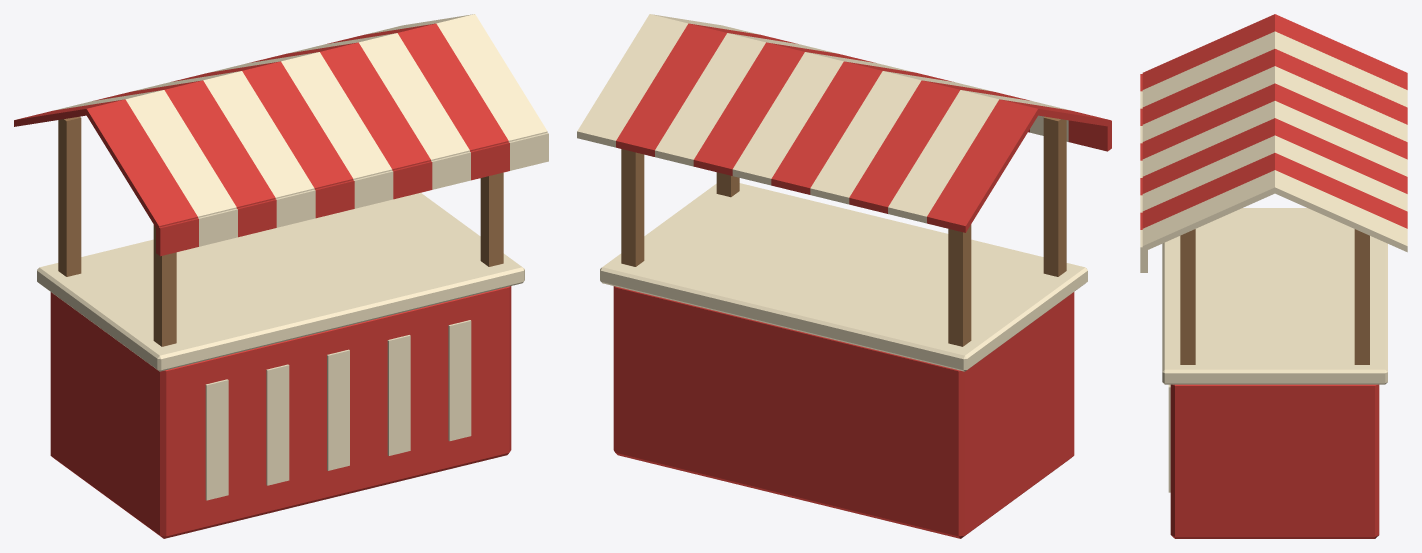
File: stand-big.glb
3 renders of one model, left to right at view 1: azimuth 30°, elevation 25°; view 2: azimuth 150°, elevation 25°; view 3: azimuth 270°, elevation 25°, orthographic. The views are drawn at different scales.
Visible parts, largest first — view 1: stand-big; view 2: stand-big; view 3: stand-big.
Part boxes in pixels (x1,y1,x2,y2): stand-big: (14, 14, 548, 538); stand-big: (577, 14, 1111, 538); stand-big: (1140, 14, 1407, 538).
Bounding box in the file's own units: 0.48 × 0.467 × 0.3125.
